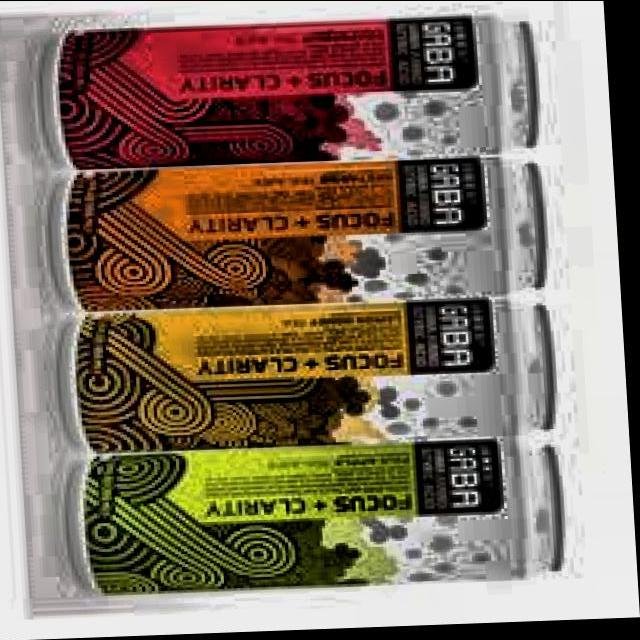litter: (44, 153, 570, 317), (63, 440, 580, 604), (59, 297, 574, 460), (41, 17, 558, 178)
